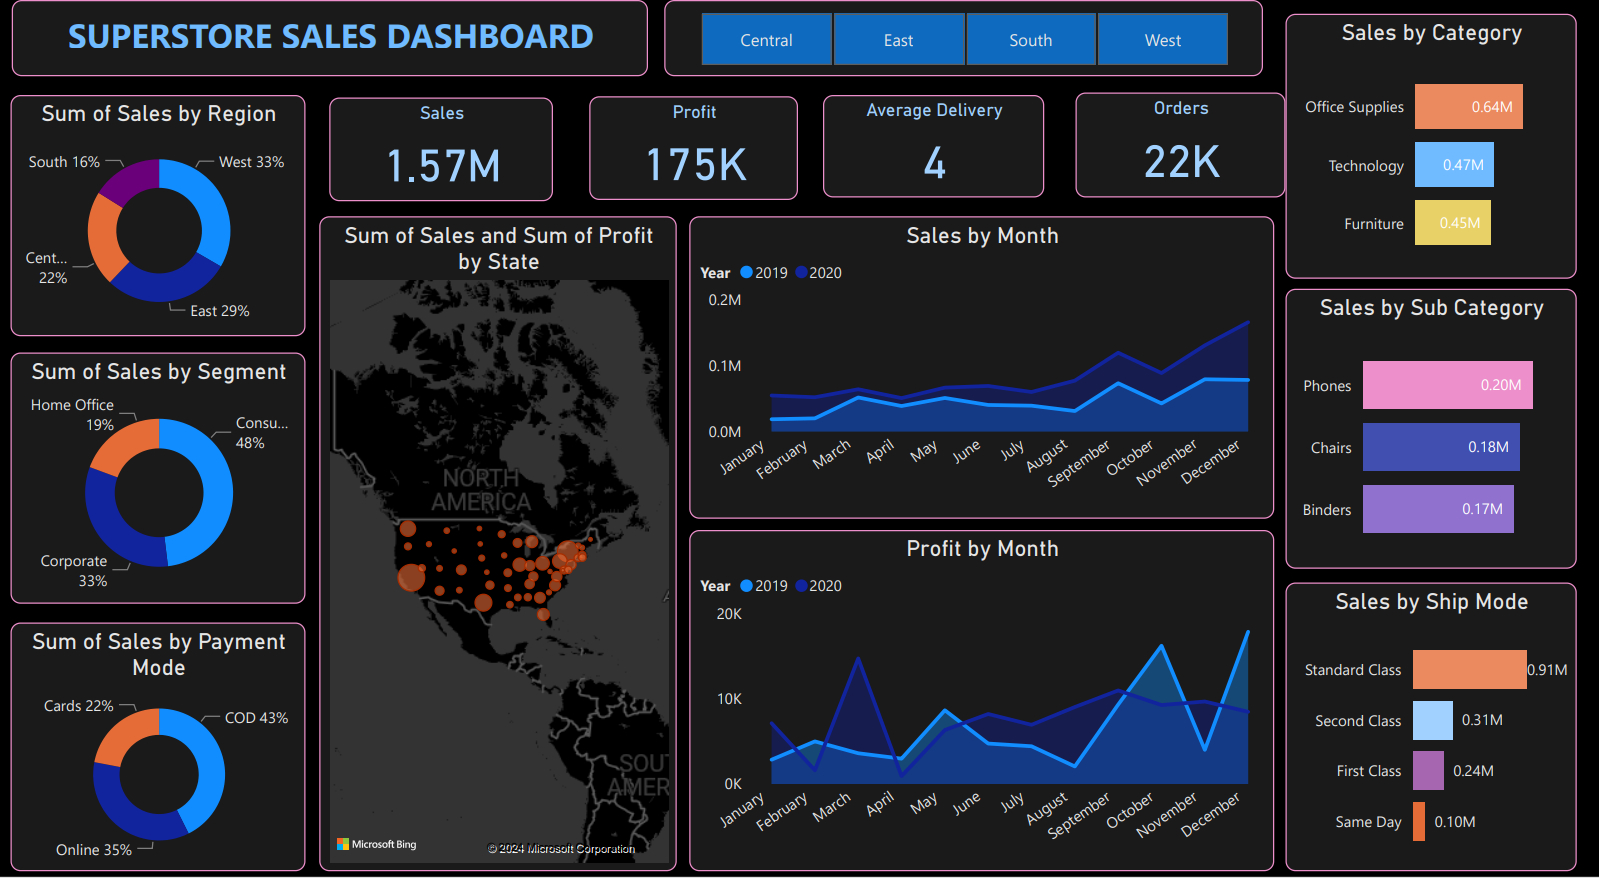

This screenshot's page, from the dashboard's own definition file:
{"tool":"powerbi","page":{"name":"Page 1","canvas":[1280,720],"ordinal":0},"visuals":[{"type":"clusteredBarChart","title":"Sales by Category","fields":{"Category":["SuperStore_Sales_Dataset.Category"],"Y":["Sum(SuperStore_Sales_Dataset.Sales)"]},"box":[1029.6,23.5,233.3,211.1],"z":0},{"type":"clusteredBarChart","title":"Sales by Sub Category","fields":{"Category":["SuperStore_Sales_Dataset.Sub-Category"],"Y":["Sum(SuperStore_Sales_Dataset.Sales)"]},"box":[1029.6,243.2,233.3,223.5],"z":1000},{"type":"clusteredBarChart","title":"Sales by Ship Mode","fields":{"Y":["Sum(SuperStore_Sales_Dataset.Sales)"],"Category":["SuperStore_Sales_Dataset.Ship Mode"]},"box":[1029.6,477.8,233.3,230.9],"z":2000},{"type":"areaChart","title":"Sales by Month","fields":{"Y":["Sum(SuperStore_Sales_Dataset.Sales)"],"Series":["SuperStore_Sales_Dataset.Order Date.Variation.Date Hierarchy.Year"],"Category":["SuperStore_Sales_Dataset.Order Date.Variation.Date Hierarchy.Month","SuperStore_Sales_Dataset.Order Date.Variation.Date Hierarchy.Day"]},"box":[553.1,185.2,467.9,242],"z":3000},{"type":"areaChart","title":"Profit by Month","fields":{"Series":["SuperStore_Sales_Dataset.Order Date.Variation.Date Hierarchy.Year"],"Category":["SuperStore_Sales_Dataset.Order Date.Variation.Date Hierarchy.Month","SuperStore_Sales_Dataset.Order Date.Variation.Date Hierarchy.Day"],"Y":["Sum(SuperStore_Sales_Dataset.Profit)"]},"box":[553.1,435.8,467.9,272.8],"z":4000},{"type":"map","fields":{"Category":["SuperStore_Sales_Dataset.State"],"Size":["Sum(SuperStore_Sales_Dataset.Sales)"]},"box":[256.8,185.2,286.4,523.5],"z":5000},{"type":"donutChart","fields":{"Category":["SuperStore_Sales_Dataset.Segment"],"Y":["Sum(SuperStore_Sales_Dataset.Sales)"]},"box":[9.9,293.8,235.8,201.2],"z":6000},{"type":"donutChart","fields":{"Category":["SuperStore_Sales_Dataset.Region"],"Y":["Sum(SuperStore_Sales_Dataset.Sales)"]},"box":[9.9,87.7,235.8,193.8],"z":7000},{"type":"donutChart","fields":{"Category":["SuperStore_Sales_Dataset.Payment Mode"],"Y":["Sum(SuperStore_Sales_Dataset.Sales)"]},"box":[9.9,509.9,235.8,198.8],"z":8000},{"type":"slicer","fields":{"Values":["SuperStore_Sales_Dataset.Region"]},"box":[533.3,12.3,479,60.5],"z":9000},{"type":"textbox","box":[11.1,12.3,508.6,60.5],"z":10000},{"type":"card","title":"Sales","fields":{"Values":["Sum(SuperStore_Sales_Dataset.Sales)"]},"box":[265.4,90.1,179,82.7],"z":11000},{"type":"card","title":"Profit","fields":{"Values":["Sum(SuperStore_Sales_Dataset.Profit)"]},"box":[472.8,88.9,166.7,82.7],"z":12000},{"type":"card","title":"Orders","fields":{"Values":["Sum(SuperStore_Sales_Dataset.Quantity)"]},"box":[861.7,86.4,167.9,84],"z":13000},{"type":"card","title":"Average Delivery","fields":{"Values":["Avg(SuperStore_Sales_Dataset.AvgDelivery)"]},"box":[660.5,87.7,176.5,82.7],"z":14000}]}

Visuals, with their boxes in screenshot pixels (x1, y1, x2, y2), scaled from the page's 1280x720 canvas onto the 1599x878 screenshot:
"Sales by Category" clusteredBarChart: 1286/29/1578/286
"Sales by Sub Category" clusteredBarChart: 1286/297/1578/569
"Sales by Ship Mode" clusteredBarChart: 1286/583/1578/864
"Sales by Month" areaChart: 691/226/1275/521
"Profit by Month" areaChart: 691/531/1275/864
map - SuperStore_Sales_Dataset.State x Sum(SuperStore_Sales_Dataset.Sales): 321/226/679/864
donutChart - SuperStore_Sales_Dataset.Segment x Sum(SuperStore_Sales_Dataset.Sales): 12/358/307/604
donutChart - SuperStore_Sales_Dataset.Region x Sum(SuperStore_Sales_Dataset.Sales): 12/107/307/343
donutChart - SuperStore_Sales_Dataset.Payment Mode x Sum(SuperStore_Sales_Dataset.Sales): 12/622/307/864
slicer - SuperStore_Sales_Dataset.Region: 666/15/1265/89
textbox: 14/15/649/89
"Sales" card: 332/110/555/211
"Profit" card: 591/108/799/209
"Orders" card: 1076/105/1286/208
"Average Delivery" card: 825/107/1046/208
